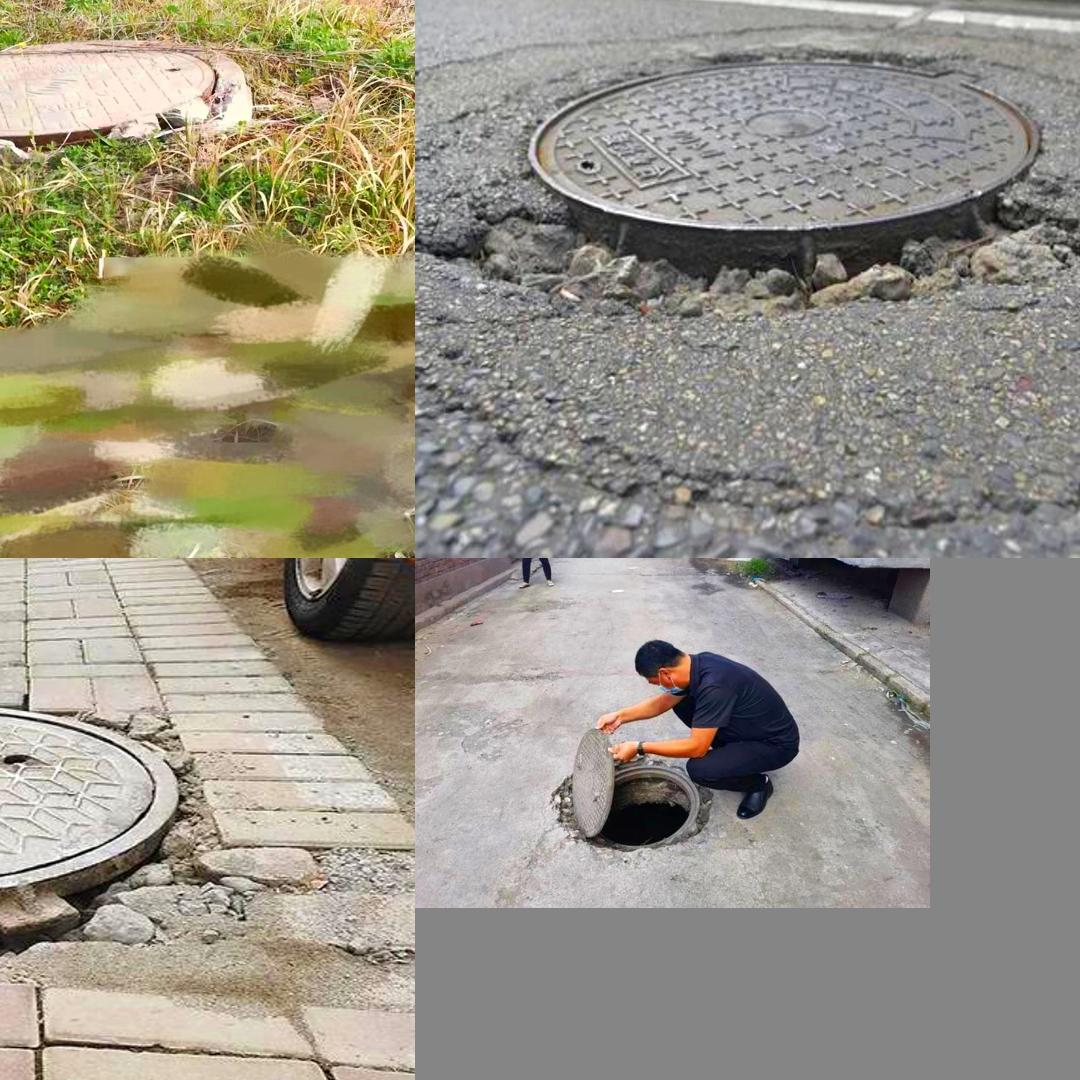circle: (442, 35, 1080, 337), (0, 705, 316, 980), (0, 32, 248, 164), (537, 737, 743, 863)
